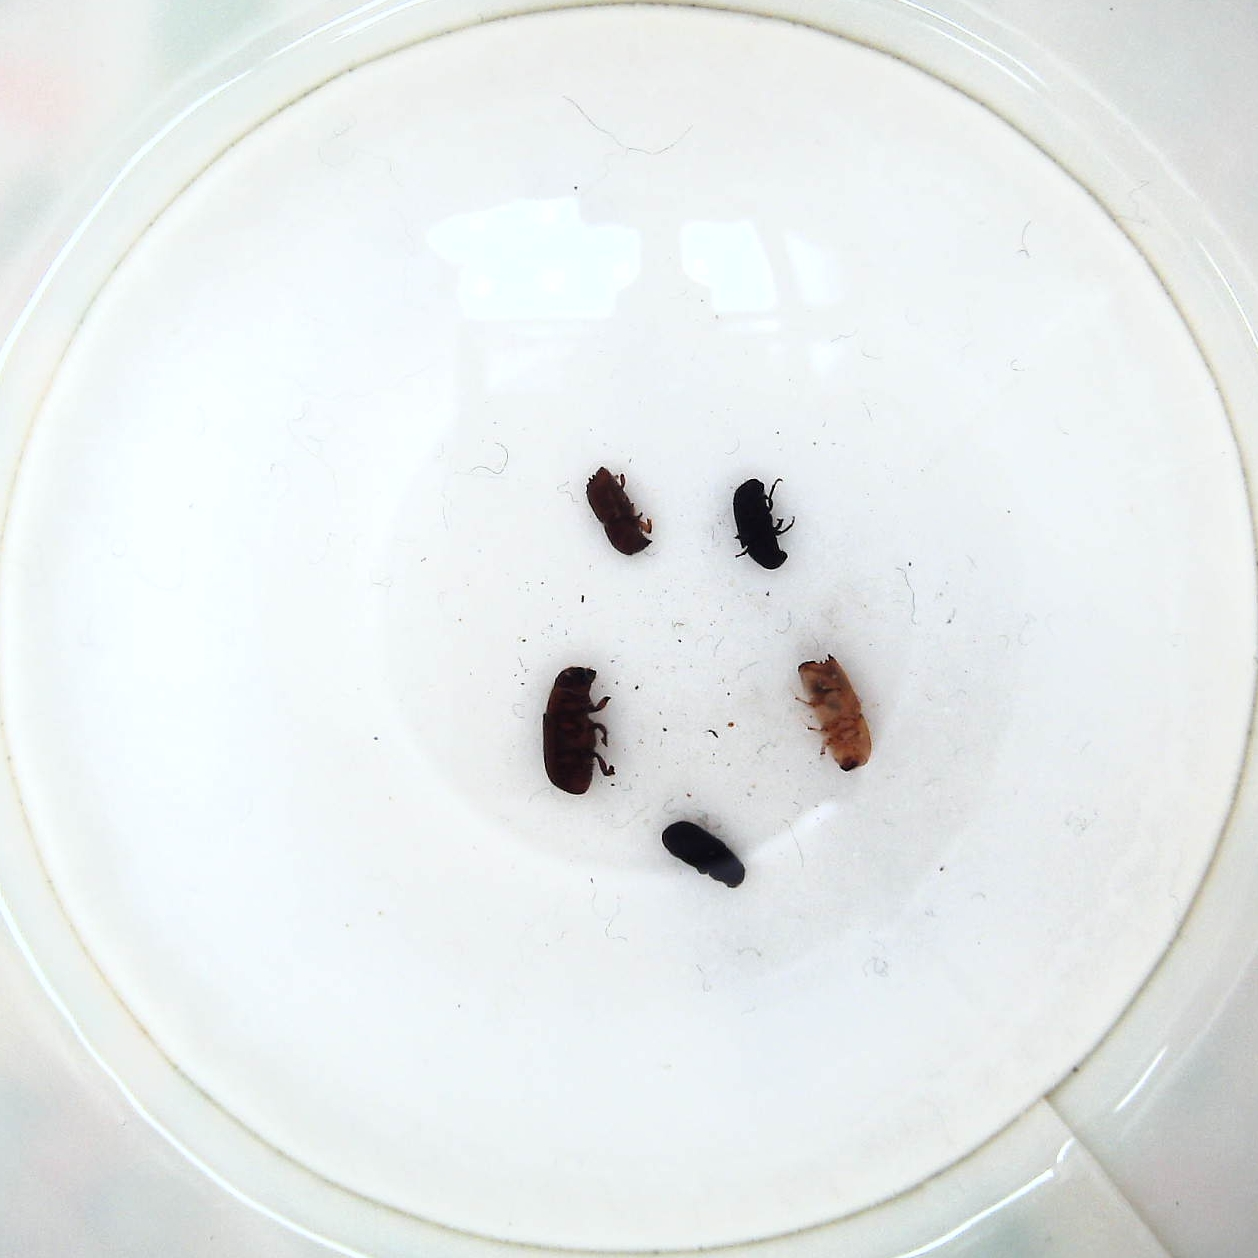Boerner: (788, 652, 876, 774)
Leconte: (539, 664, 615, 801)
armandi: (659, 818, 747, 891)
coleoptera: (725, 471, 793, 574)
linnaeus: (588, 462, 659, 559)
